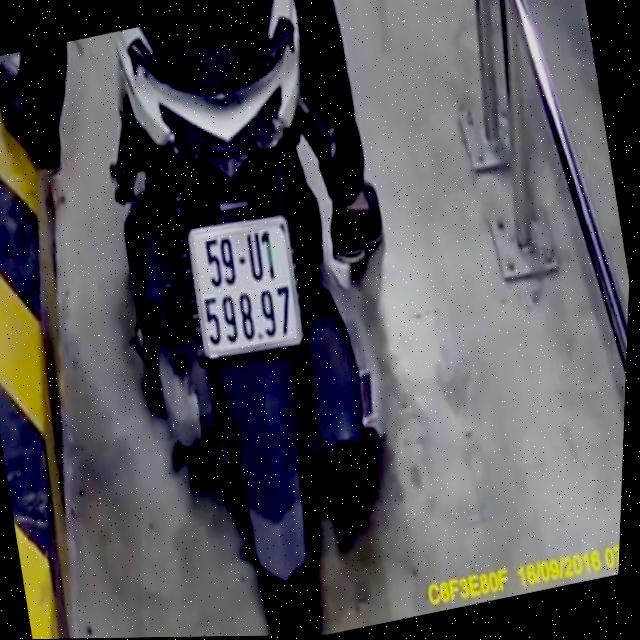motorcycle: (49, 0, 441, 639)
plate: (175, 205, 312, 370)
